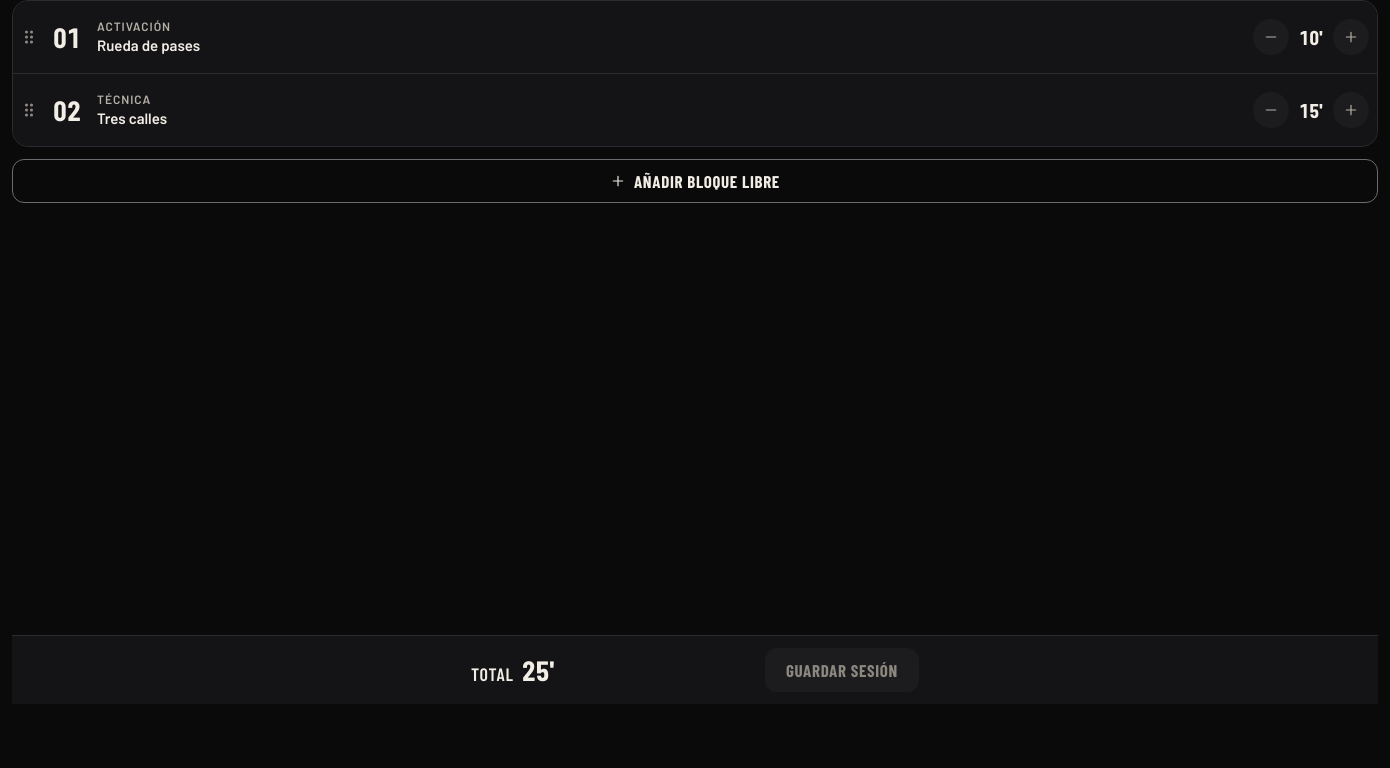
Test: PracticeBuilder · editar una fila › abierta, ofrece «Fase», «Título» y «Notas», con sus límites
This screenshot has width=1390, height=768.
Click the button "Activación Rueda de pases".
click(134, 26)  # box 97,15 -> 1245,59
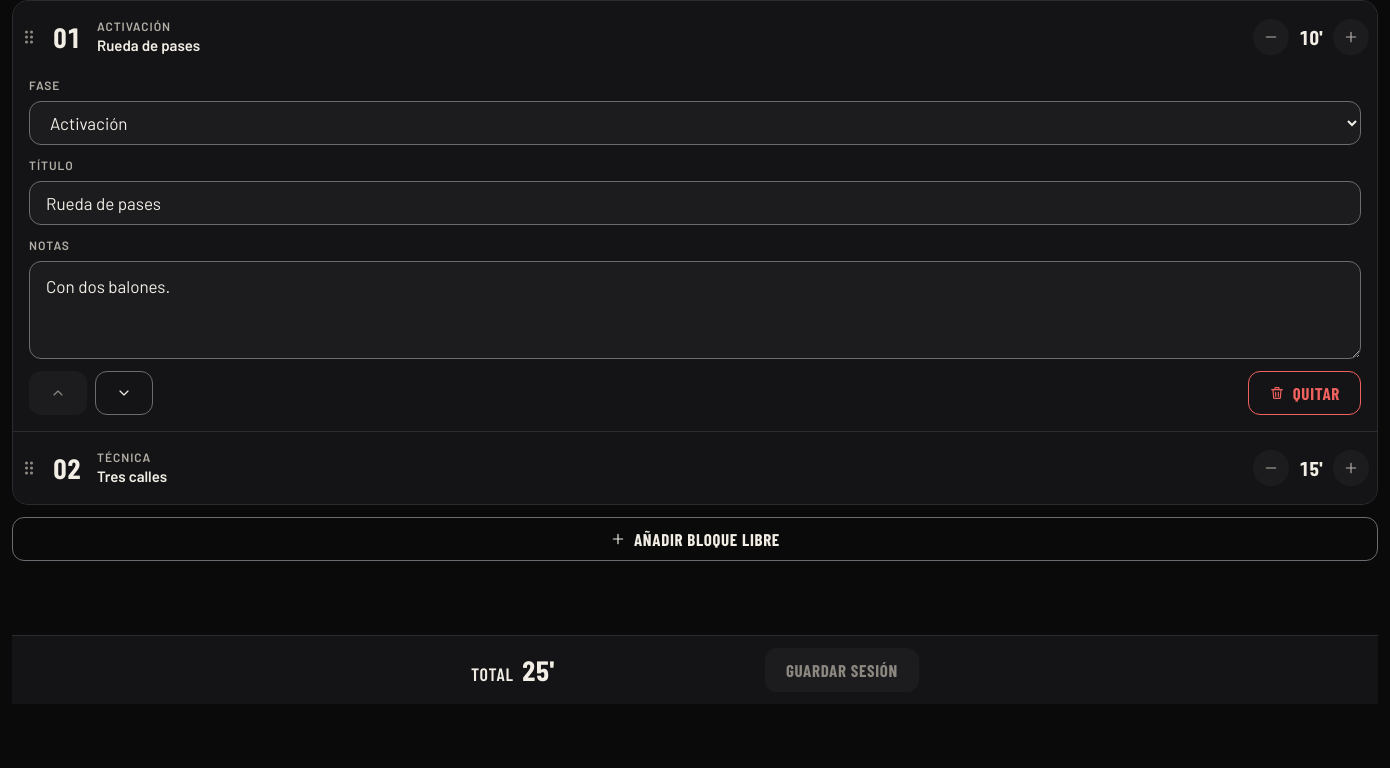
Check: the dropdown labelled "Fase" shows "Activación", box 29,101 -> 1361,145
Check: the field labelled "Título" holds "Rueda de pases", box 29,181 -> 1361,225
Check: the text box labelled "Notas" holds "Con dos balones.", box 29,261 -> 1361,359
